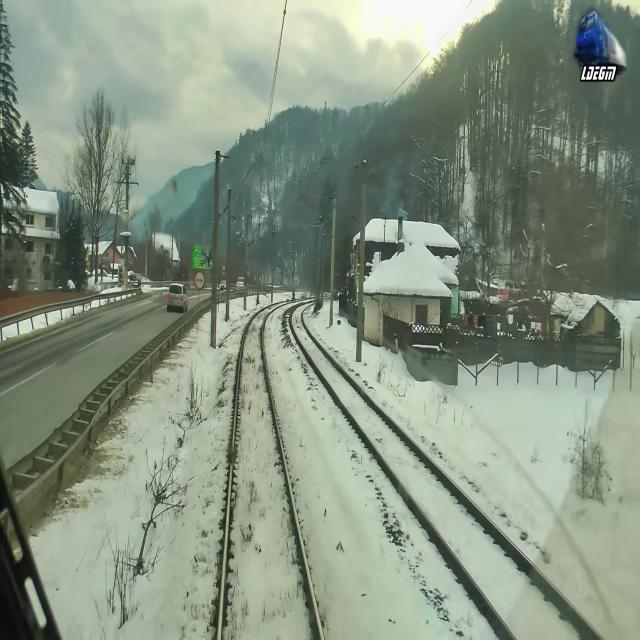rail-track: (291, 303, 597, 639), (221, 306, 319, 639)
